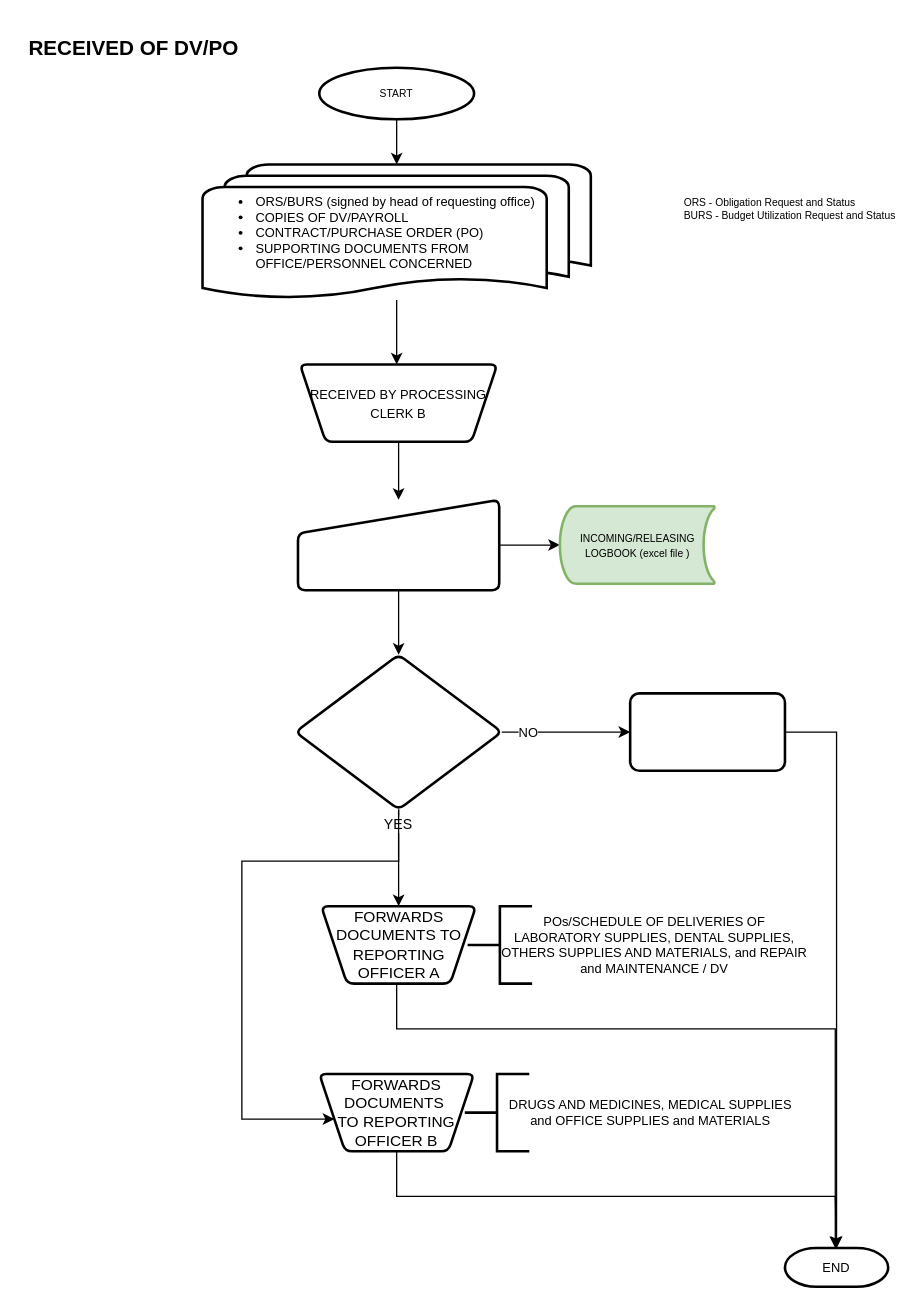
Image size: 921x1309. Some labels were removed from this diagram. The shapes that lost their labels are listed below. From the top down, each one's centre as x and y in pixels, then its label:
(398,544): RECORD IN DESIGNATED INCOMING/RELEASING LOGBOOK
(397,731): IS DOCUMENTS COMPLETE BASED ON CHECKLIST
(707,731): RETURN TO ORIGINATING OFFICE
